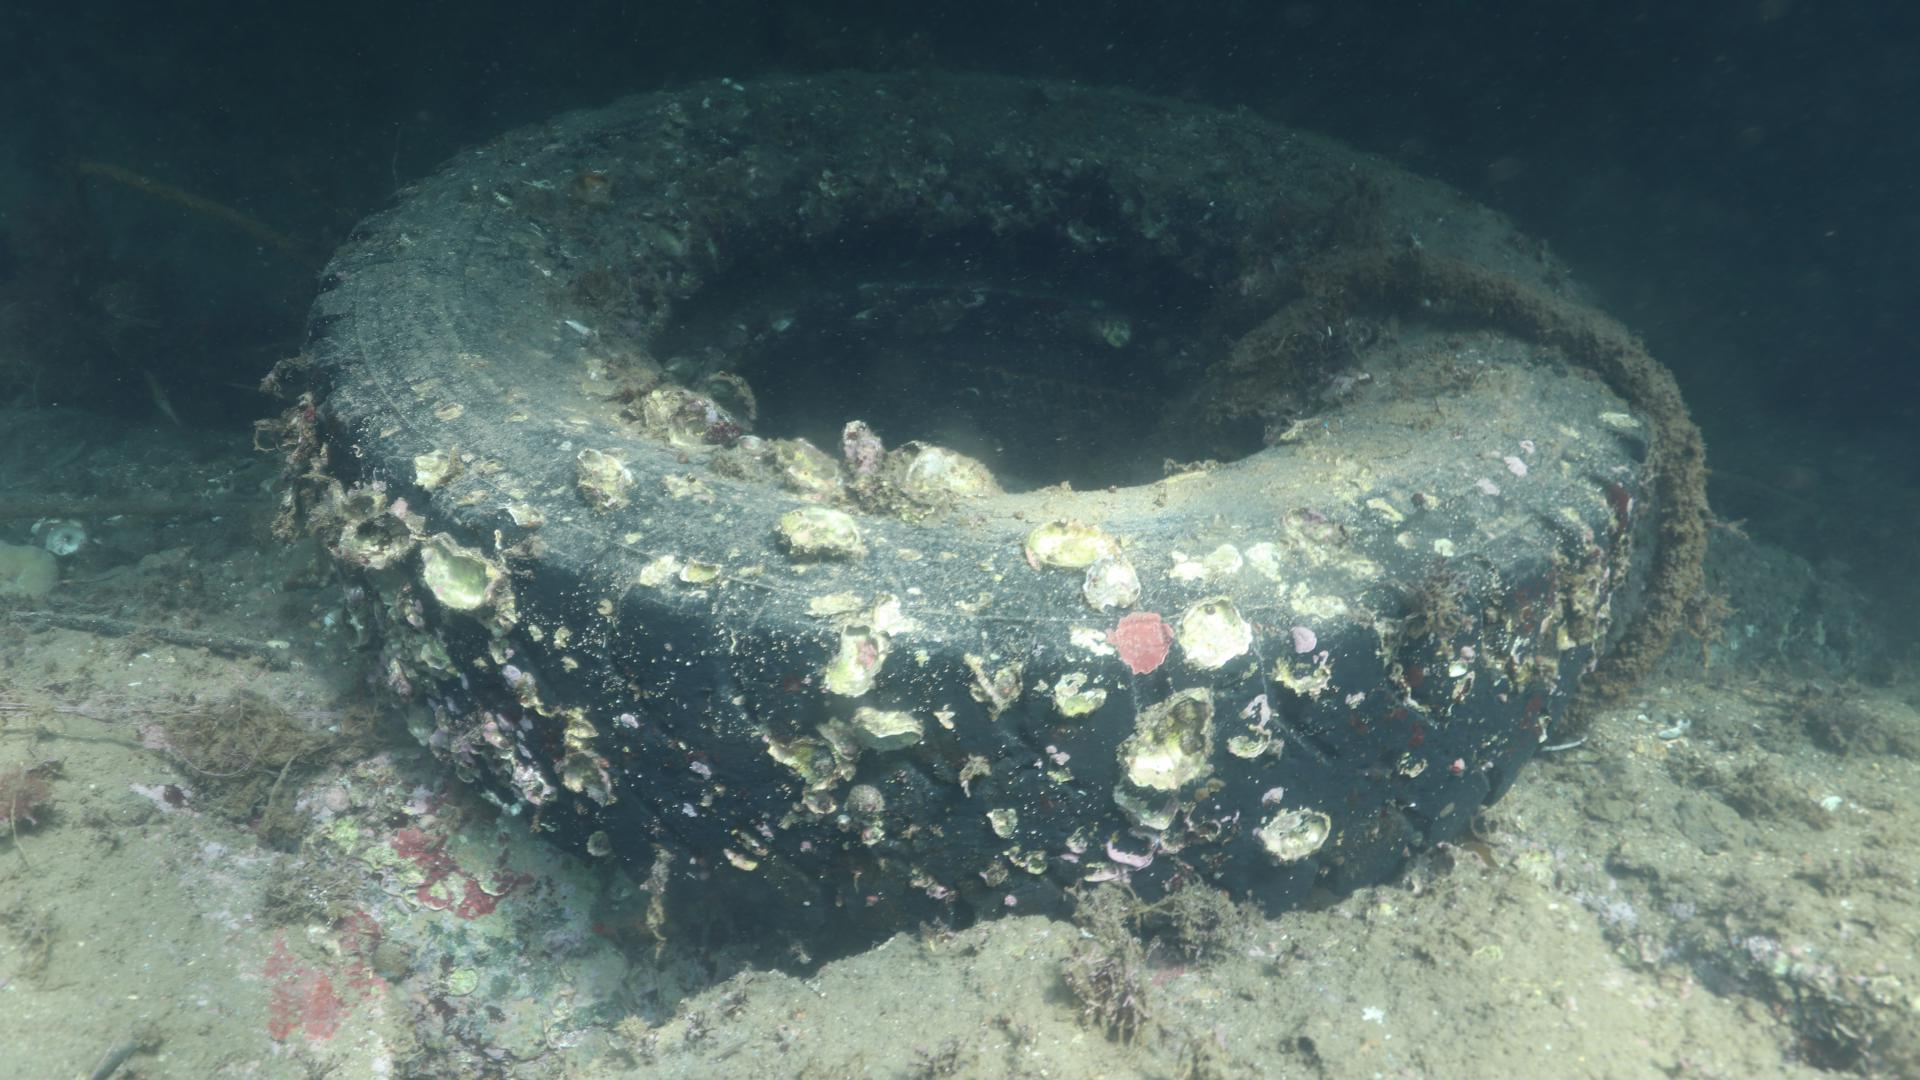rope: (1195, 253, 1712, 744)
tire: (289, 63, 1691, 953)
